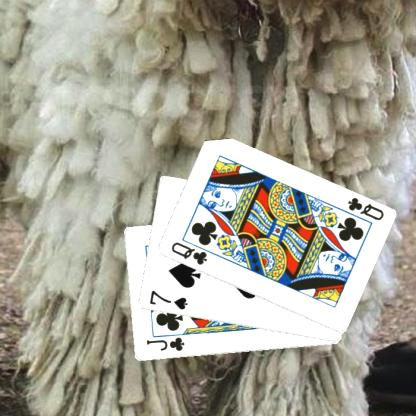7S: (146, 288, 188, 312)
JC: (144, 335, 186, 353)
QC: (168, 239, 209, 267), (345, 195, 385, 222)
